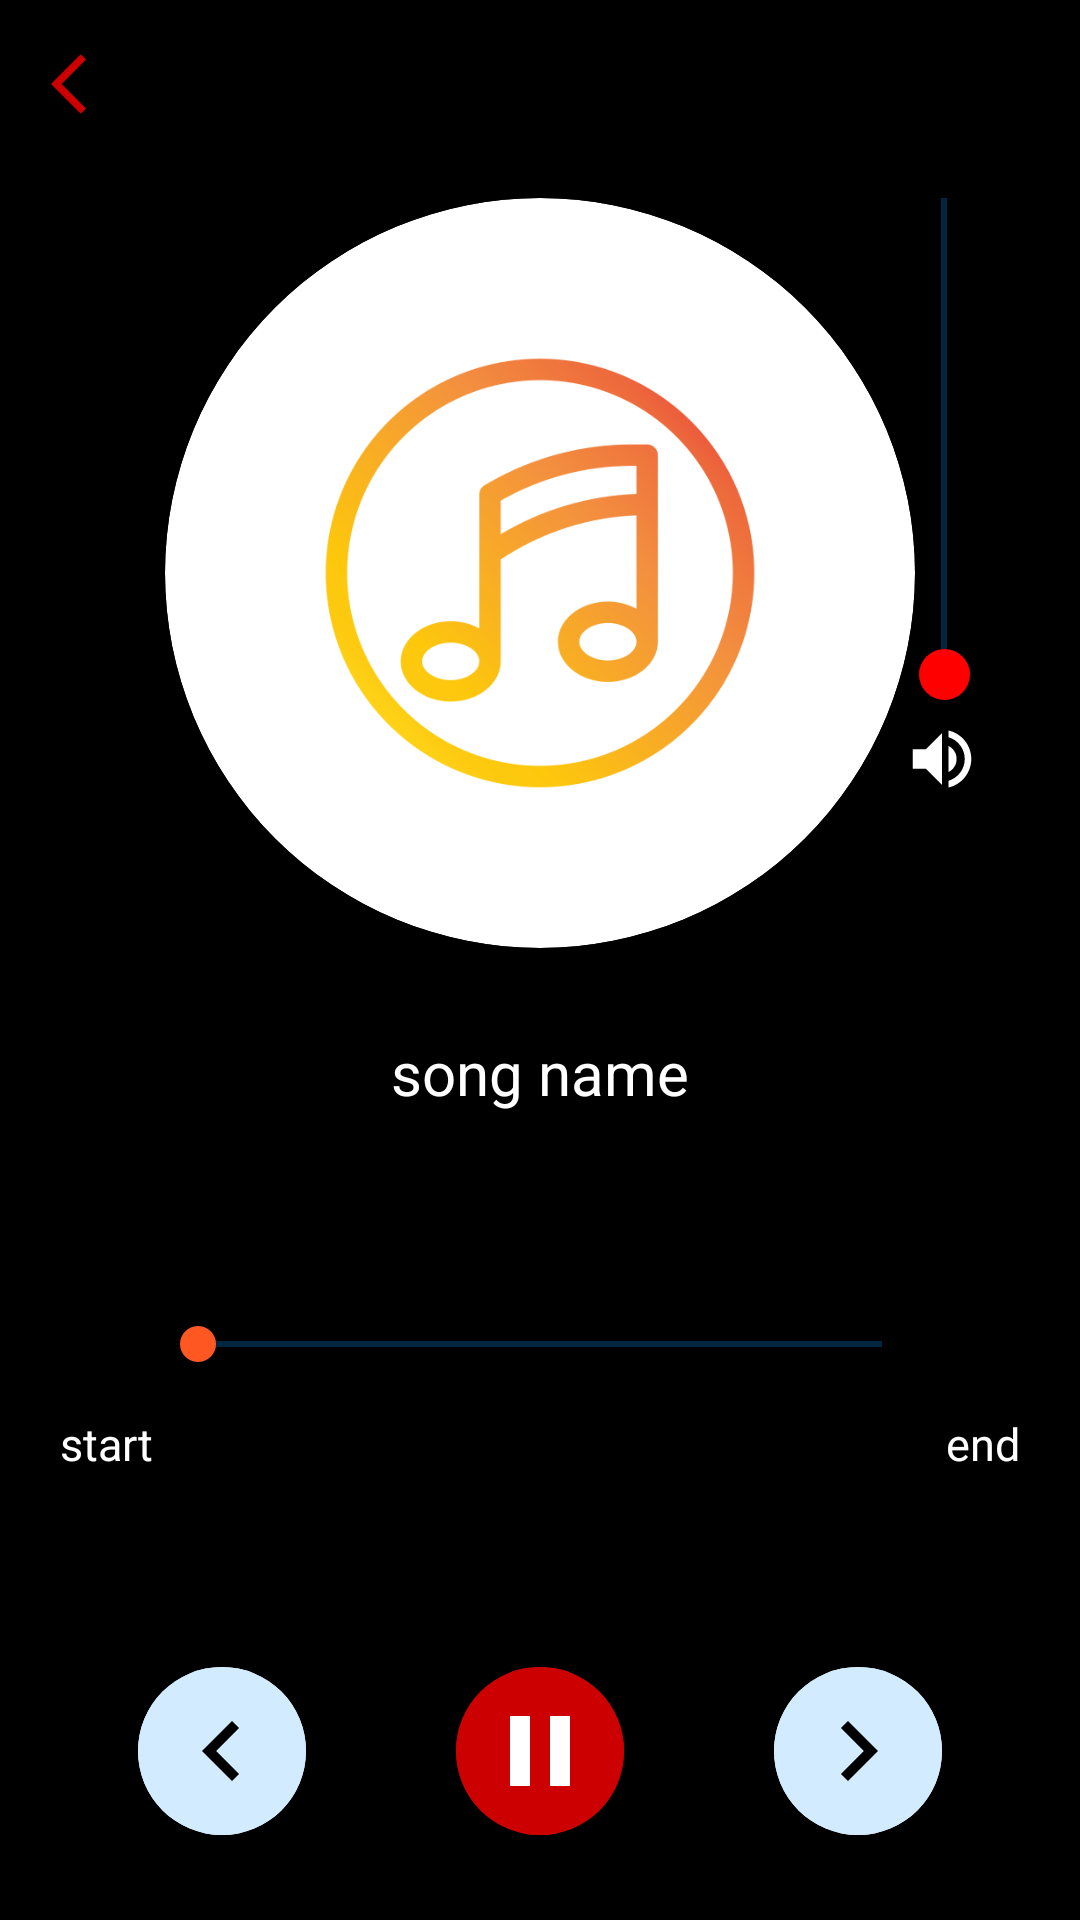

Icon bounding boxes for this 1080×1920 phone screenshot, format (x1, y1, x2, y2):
back: (51, 54, 86, 114)
before: (138, 1667, 306, 1835)
next: (774, 1667, 942, 1835)
pause: (456, 1667, 624, 1835)
volume up: (912, 730, 972, 788)
